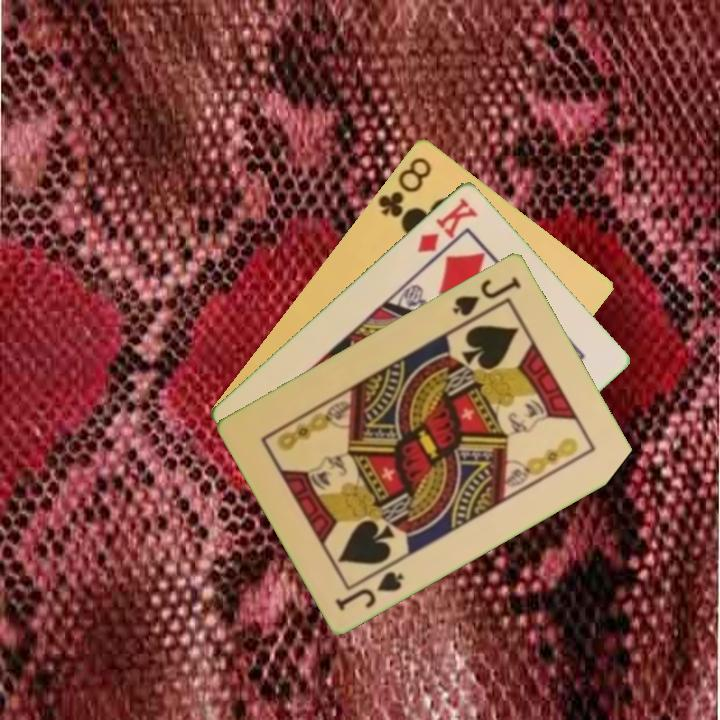8c: (374, 153, 435, 221)
Js: (448, 272, 525, 319), (332, 566, 407, 613)
Kd: (413, 193, 481, 256)
